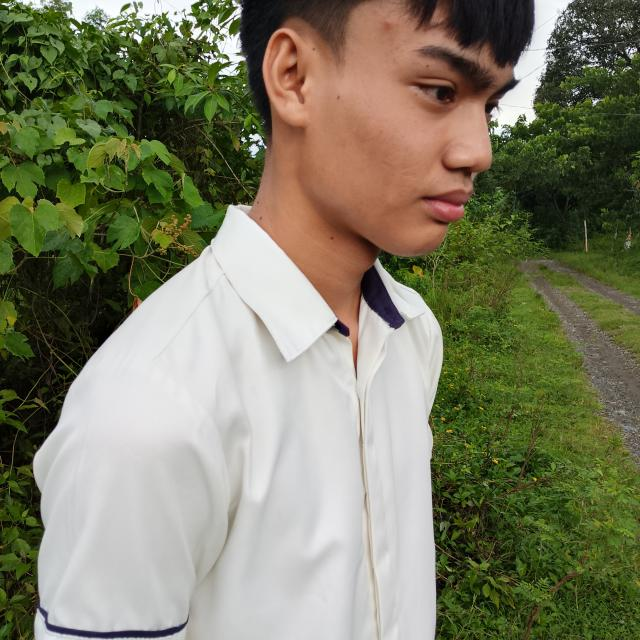education_male_uniform: (16, 162, 503, 625)
